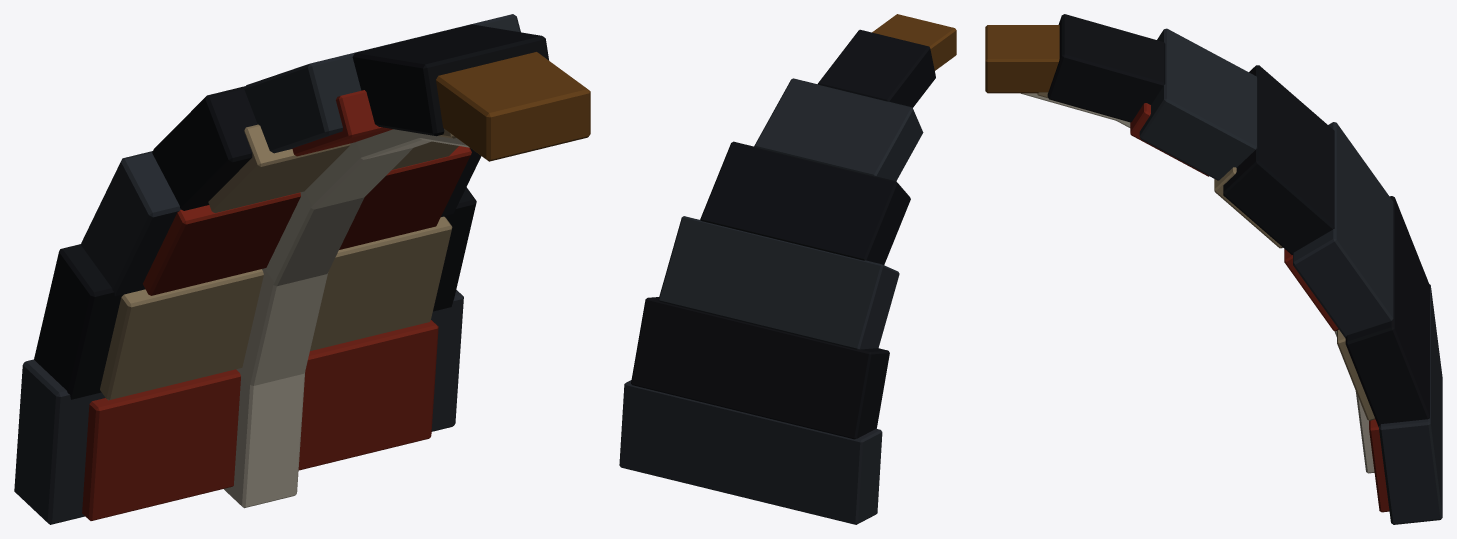
File: mod_dome_rib_segment.glb
3 renders of one model, left to right at view 1: azimuth 30°, elevation 25°; view 2: azimuth 150°, elevation 25°; view 3: azimuth 270°, elevation 25°, orthographic. The views are drawn at different scales.
Parts seen in each view (by area): view 1: Mod_Dome_Rib_Segment; view 2: Mod_Dome_Rib_Segment; view 3: Mod_Dome_Rib_Segment.
Boxes of the visible parts, x1=… form: Mod_Dome_Rib_Segment: x1=14, y1=14, x2=590, y2=524; Mod_Dome_Rib_Segment: x1=619, y1=14, x2=956, y2=524; Mod_Dome_Rib_Segment: x1=985, y1=14, x2=1442, y2=524.
Bounding box in the file's own units: 1.41 × 2.01 × 1.93.
